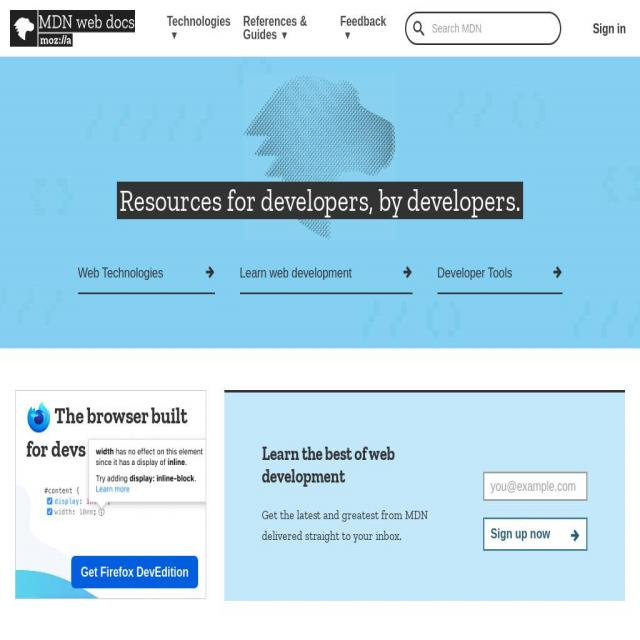login-option: (586, 15, 638, 50)
navigation-blocks: (14, 372, 210, 602)
navigation-links: (64, 247, 574, 303), (156, 6, 395, 52)
search: (405, 8, 567, 47)
sign-up-form: (474, 466, 591, 556)
